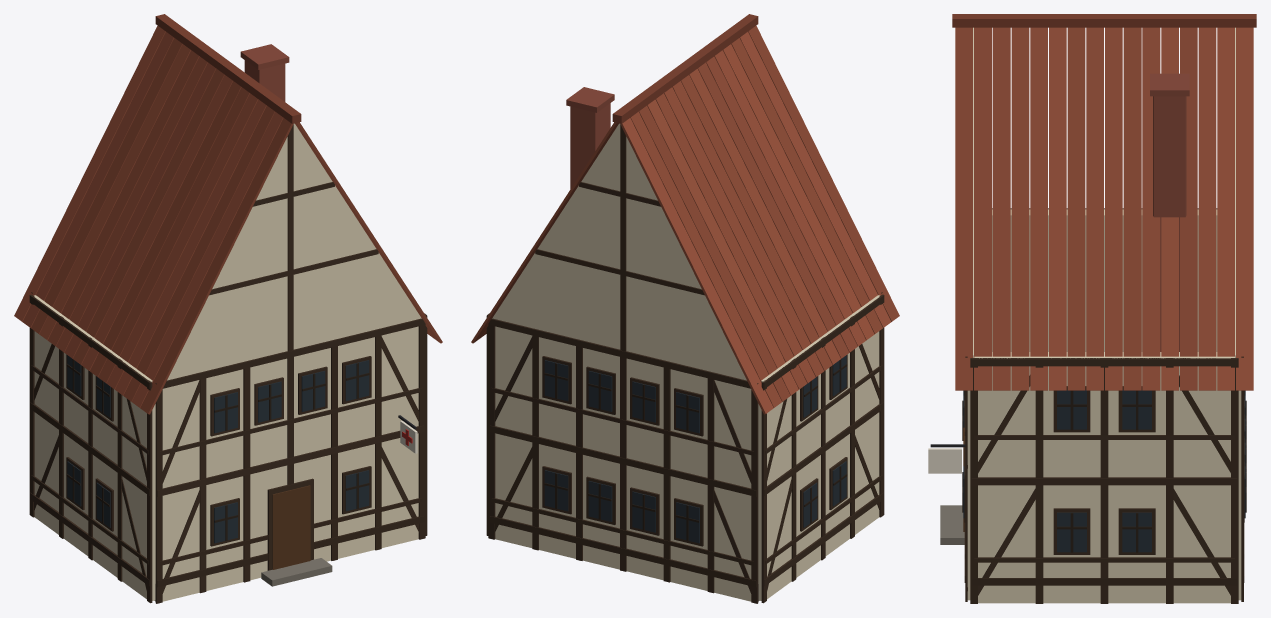
Rendered from hospital_2.glb.
3 views of the same model, side by side, from view 1: azimuth 30°, elevation 25°; view 2: azimuth 150°, elevation 25°; view 3: azimuth 270°, elevation 25° (orthographic). The views are drawn at different scales.
Visible parts, largest first — view 1: hospital2_plaster, hospital2_tiles, hospital2_wood, hospital2_glass, hospital2_brick, hospital2_stone; view 2: hospital2_plaster, hospital2_tiles, hospital2_wood, hospital2_glass, hospital2_brick; view 3: hospital2_tiles, hospital2_plaster, hospital2_wood, hospital2_brick, hospital2_glass, hospital2_stone.
Boxes of the visible parts, x1=… form: hospital2_plaster: x1=34, y1=123, x2=421, y2=601; hospital2_tiles: x1=14, y1=14, x2=442, y2=414; hospital2_wood: x1=29, y1=124, x2=427, y2=603; hospital2_glass: x1=67, y1=355, x2=369, y2=543; hospital2_brick: x1=240, y1=44, x2=289, y2=101; hospital2_stone: x1=154, y1=558, x2=332, y2=601; hospital2_plaster: x1=492, y1=123, x2=879, y2=601; hospital2_tiles: x1=471, y1=14, x2=899, y2=414; hospital2_wood: x1=486, y1=124, x2=884, y2=603; hospital2_glass: x1=544, y1=355, x2=846, y2=543; hospital2_brick: x1=566, y1=87, x2=614, y2=188; hospital2_tiles: x1=952, y1=14, x2=1256, y2=390; hospital2_plaster: x1=967, y1=27, x2=1241, y2=603; hospital2_wood: x1=928, y1=208, x2=1246, y2=603; hospital2_brick: x1=1150, y1=73, x2=1189, y2=351; hospital2_glass: x1=963, y1=390, x2=1245, y2=552; hospital2_stone: x1=940, y1=505, x2=964, y2=544.
Bounding box in the file's own units: 7.85 × 11.74 × 6.8.
